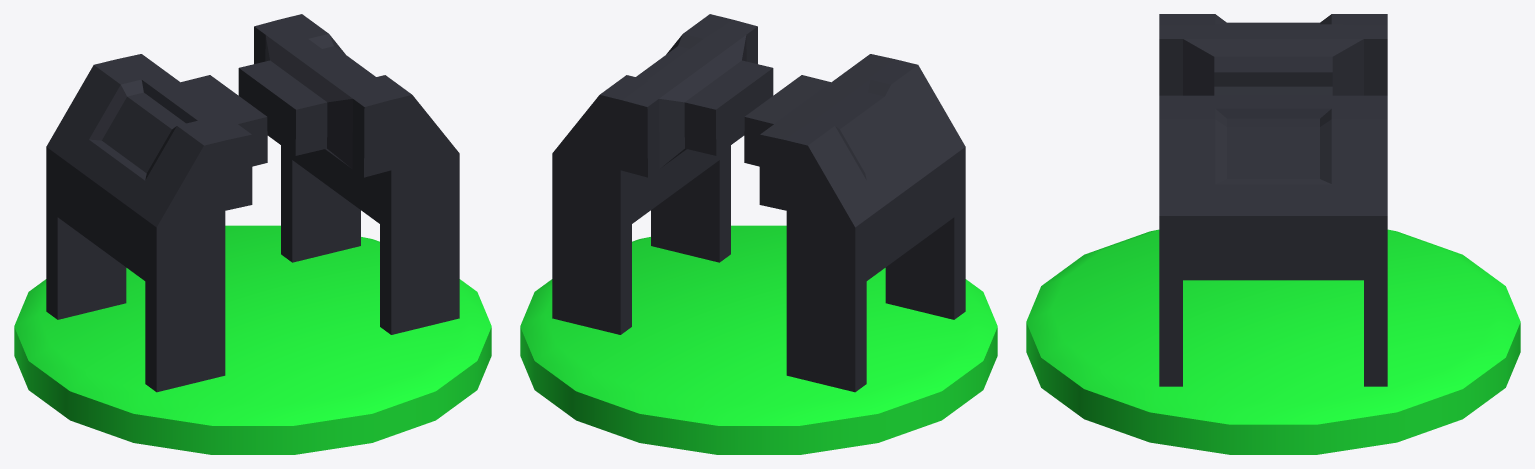
Rendered from Key_Node_Green.fbx.
3 views of the same model, side by side, from view 1: azimuth 30°, elevation 25°; view 2: azimuth 150°, elevation 25°; view 3: azimuth 270°, elevation 25° (orthographic). The views are drawn at different scales.
Parts seen in each view (by area): view 1: Key_Node_Green; view 2: Key_Node_Green; view 3: Key_Node_Green.
Boxes of the visible parts, x1,y1,x2,y2 form: Key_Node_Green: (14, 14, 491, 454); Key_Node_Green: (520, 14, 997, 454); Key_Node_Green: (1026, 14, 1520, 454).
Size of the model in its own units: 42.28 by 27.35 by 42.93.
